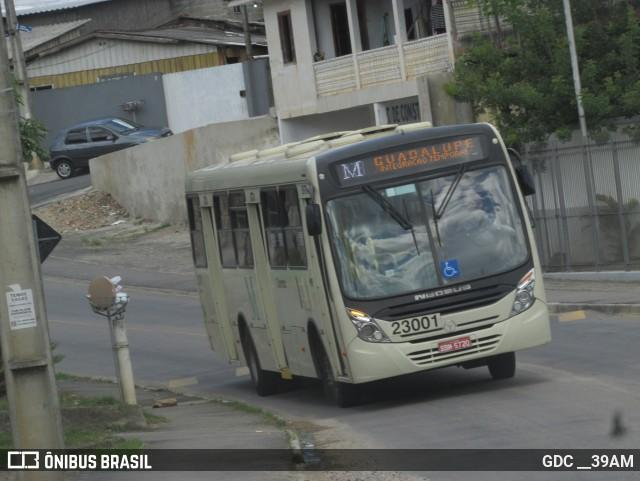GUADALUPE: (369, 135, 478, 170)
